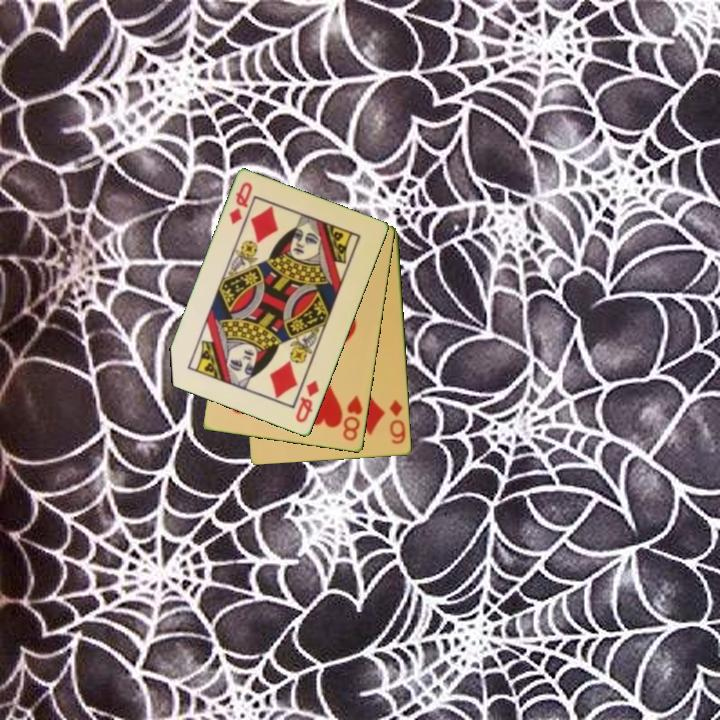6d: (386, 397, 409, 447)
8h: (339, 392, 366, 444)
Qd: (292, 377, 322, 426), (226, 179, 256, 228)
